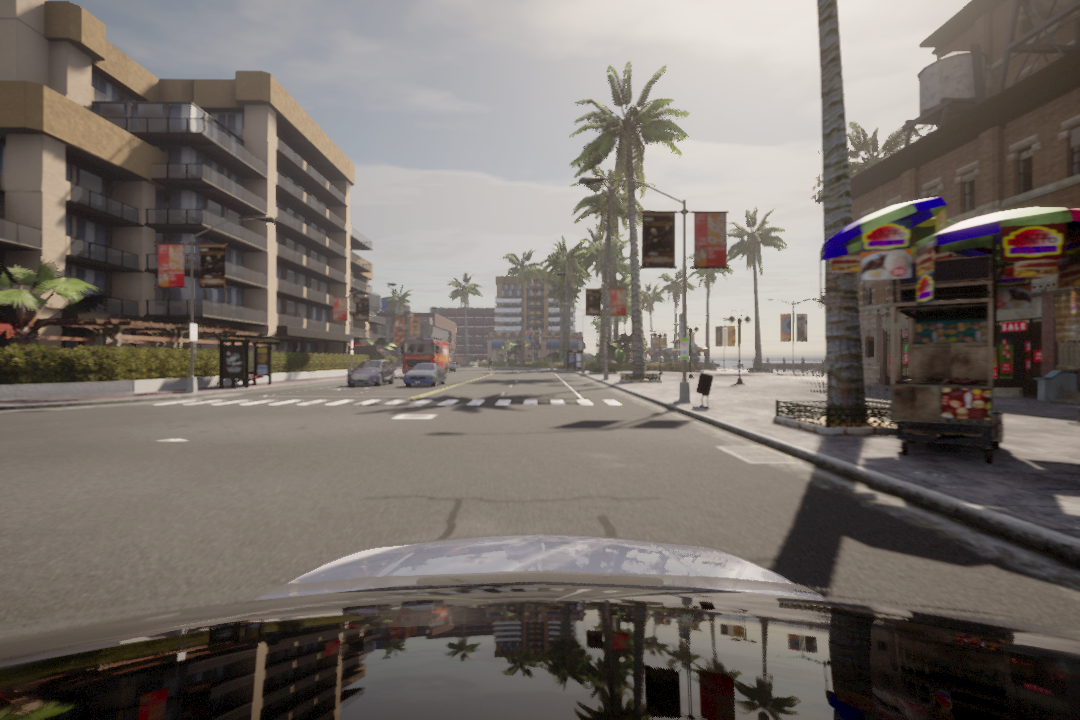walkside: (163, 395, 632, 408)
